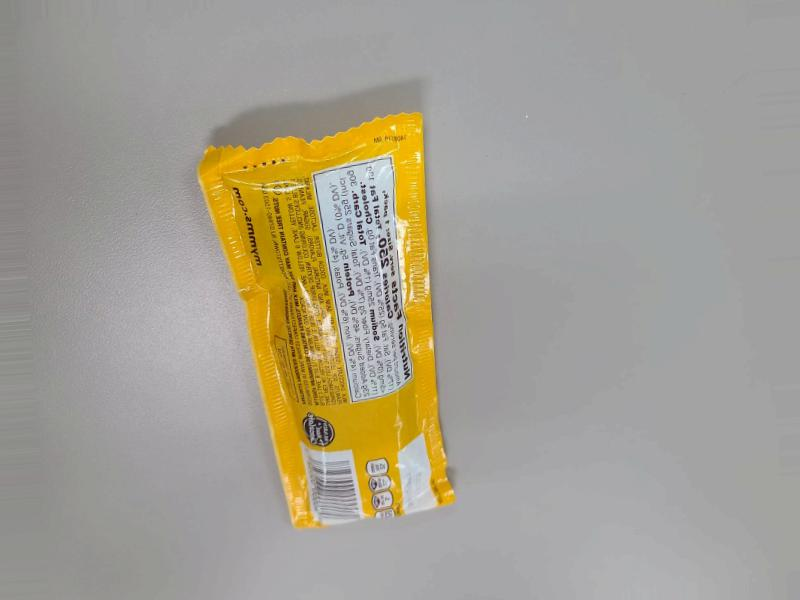m&m: (183, 98, 482, 557)
